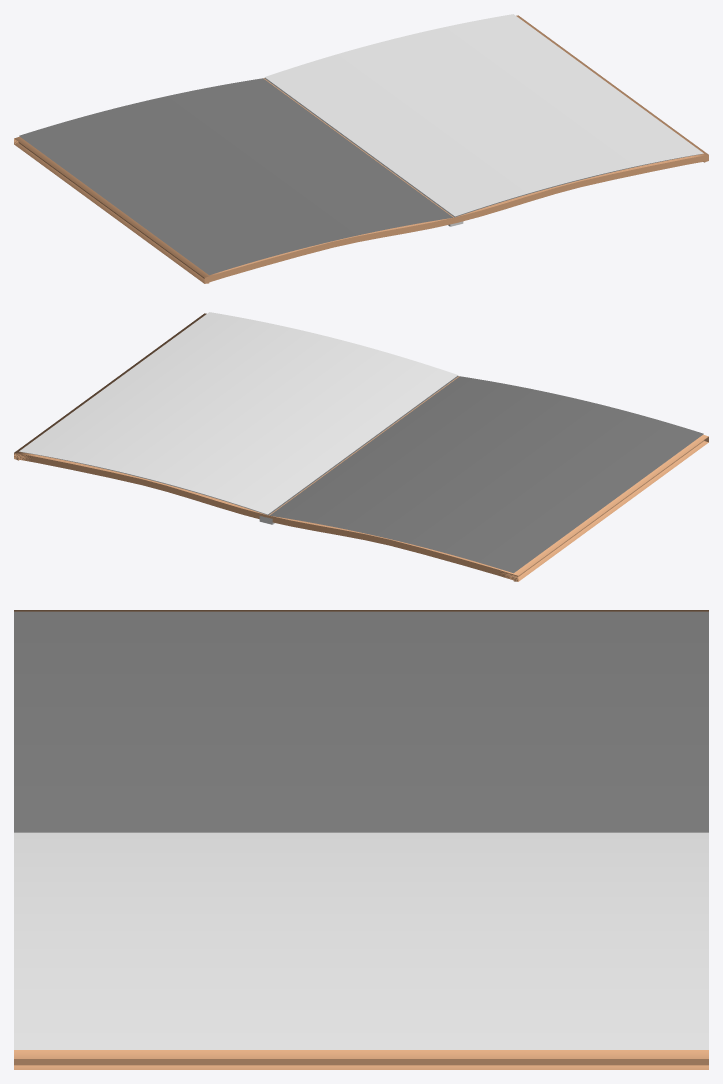
The model's file is book.fbx.
3 views of the same model, one above another, from view 1: azimuth 30°, elevation 25°; view 2: azimuth 150°, elevation 25°; view 3: azimuth 270°, elevation 25° (orthographic). The views are drawn at different scales.
Visible parts, largest first — view 1: Plane004, Plane003, Box004, Plane006; view 2: Plane004, Plane003, Box004, Plane006; view 3: Plane003, Plane004, Box004.
Boxes of the visible parts, x1,y1,x2,y2 form: Plane004: (265,14,703,216); Plane003: (19,78,452,275); Box004: (14,15,708,283); Plane006: (264,77,701,217); Plane004: (19,312,457,514); Plane003: (270,376,703,573); Box004: (14,313,708,581); Plane006: (21,375,458,515); Plane003: (14,611,708,832); Plane004: (14,832,708,1049); Box004: (14,610,708,1069).
Bounding box in the file's own units: 306 × 9.16 × 200.
